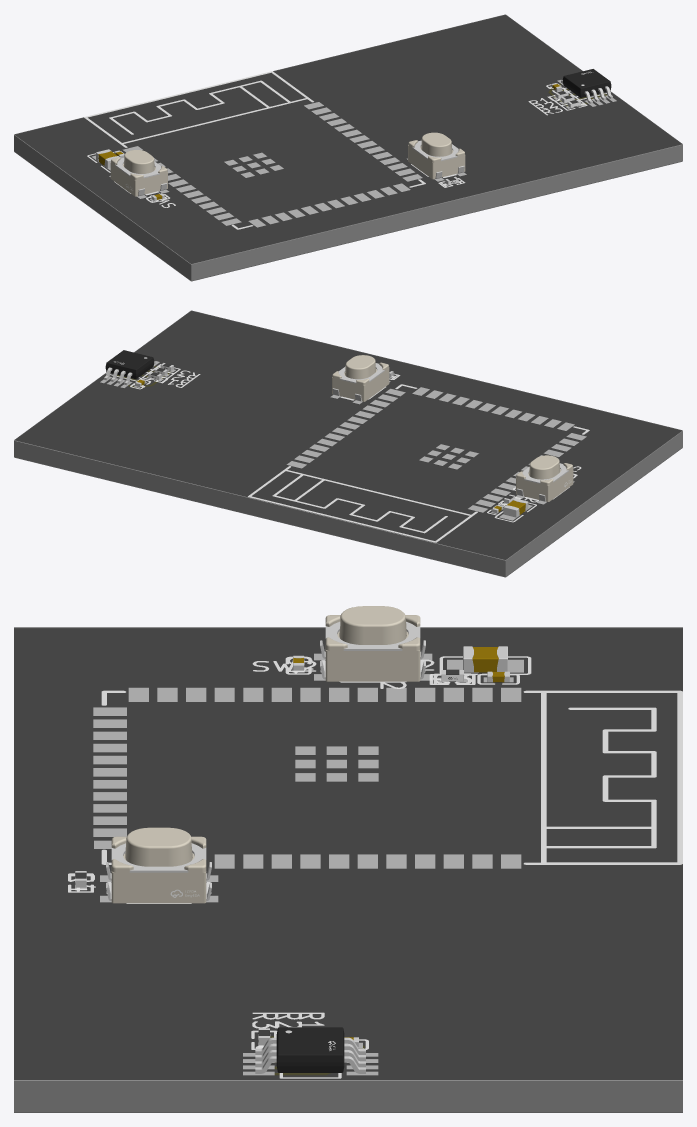
File: default.pcba.glb
The picture shows the model from 3 angles, top to bottom: view 1: azimuth 30°, elevation 25°; view 2: azimuth 150°, elevation 25°; view 3: azimuth 270°, elevation 25°; orthographic projection. The views are drawn at different scales.
Parts seen in each view (by area): view 1: =>[0:1:1:13], =>[0:1:1:11], =>[0:1:1:9], =>[0:1:1:10], SW1, SW2, U1, =>[0:1:1:12]; view 2: =>[0:1:1:13], =>[0:1:1:11], =>[0:1:1:9], =>[0:1:1:10], SW1, SW2, U1, =>[0:1:1:12]; view 3: =>[0:1:1:13], =>[0:1:1:11], =>[0:1:1:9], =>[0:1:1:10], SW1, SW2, U1, C2.
Boxes of the visible parts, bbox=[...] form: =>[0:1:1:13]: bbox=[14, 15, 682, 280]; =>[0:1:1:11]: bbox=[14, 14, 682, 263]; =>[0:1:1:9]: bbox=[92, 80, 616, 227]; =>[0:1:1:10]: bbox=[84, 71, 610, 229]; SW1: bbox=[408, 132, 465, 179]; SW2: bbox=[110, 150, 167, 196]; U1: bbox=[561, 69, 612, 103]; =>[0:1:1:12]: bbox=[14, 151, 682, 281]; =>[0:1:1:13]: bbox=[14, 311, 682, 576]; =>[0:1:1:11]: bbox=[14, 310, 682, 559]; =>[0:1:1:9]: bbox=[100, 361, 586, 520]; =>[0:1:1:10]: bbox=[106, 364, 589, 542]; SW1: bbox=[332, 355, 389, 401]; SW2: bbox=[516, 455, 573, 501]; U1: bbox=[104, 350, 155, 385]; =>[0:1:1:12]: bbox=[14, 447, 682, 577]; =>[0:1:1:13]: bbox=[14, 629, 682, 1111]; =>[0:1:1:11]: bbox=[14, 627, 682, 1079]; =>[0:1:1:9]: bbox=[75, 653, 523, 1075]; =>[0:1:1:10]: bbox=[68, 656, 682, 1078]; SW1: bbox=[106, 827, 211, 903]; SW2: bbox=[320, 606, 425, 681]; U1: bbox=[255, 1027, 365, 1073]; C2: bbox=[463, 646, 507, 672].
Size of the model in its own units: 0.0475 by 0.00414 by 0.0297.
